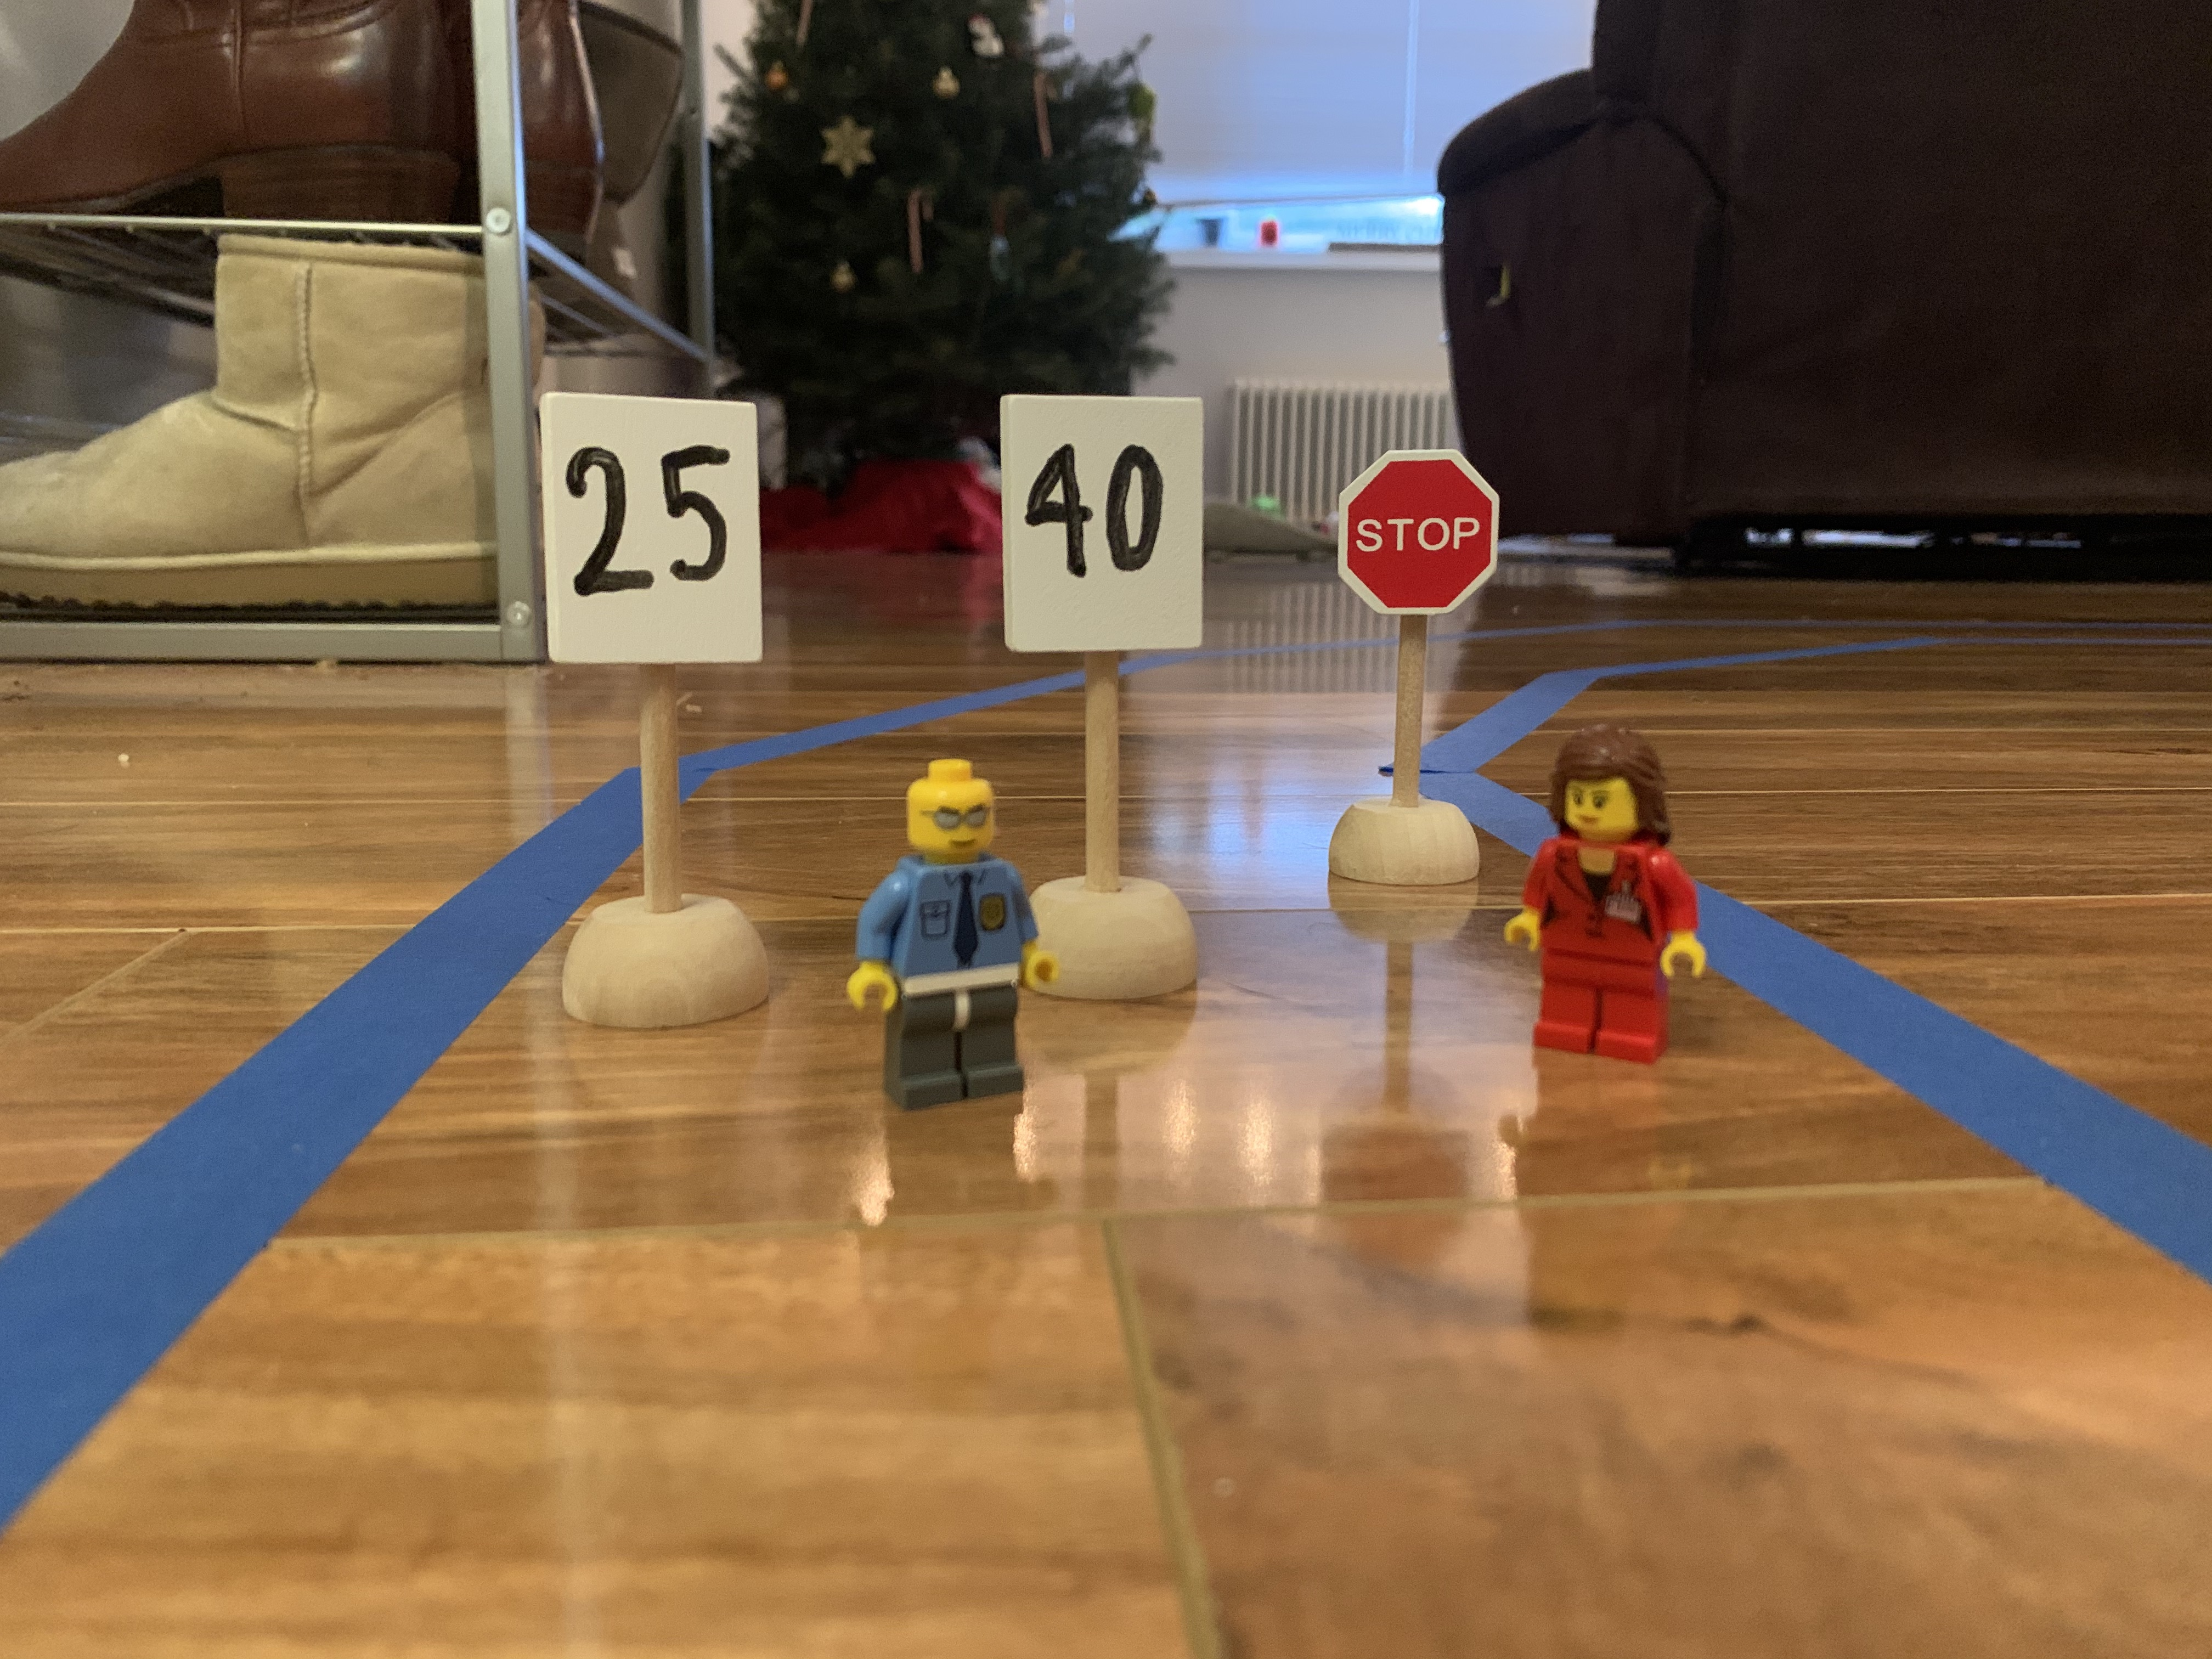Speed Limit 25: (537, 397, 767, 668)
Speed Limit 40: (1001, 393, 1201, 643)
Stop Sign: (1335, 448, 1499, 622)
person: (843, 756, 1064, 1138), (1499, 716, 1708, 1076)
